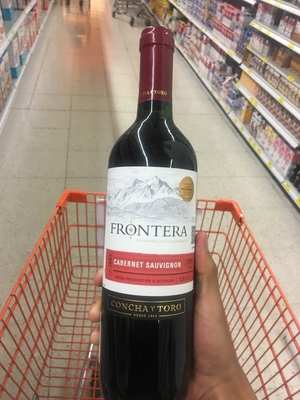frontera cabernet sauvignon: (102, 24, 202, 400)
